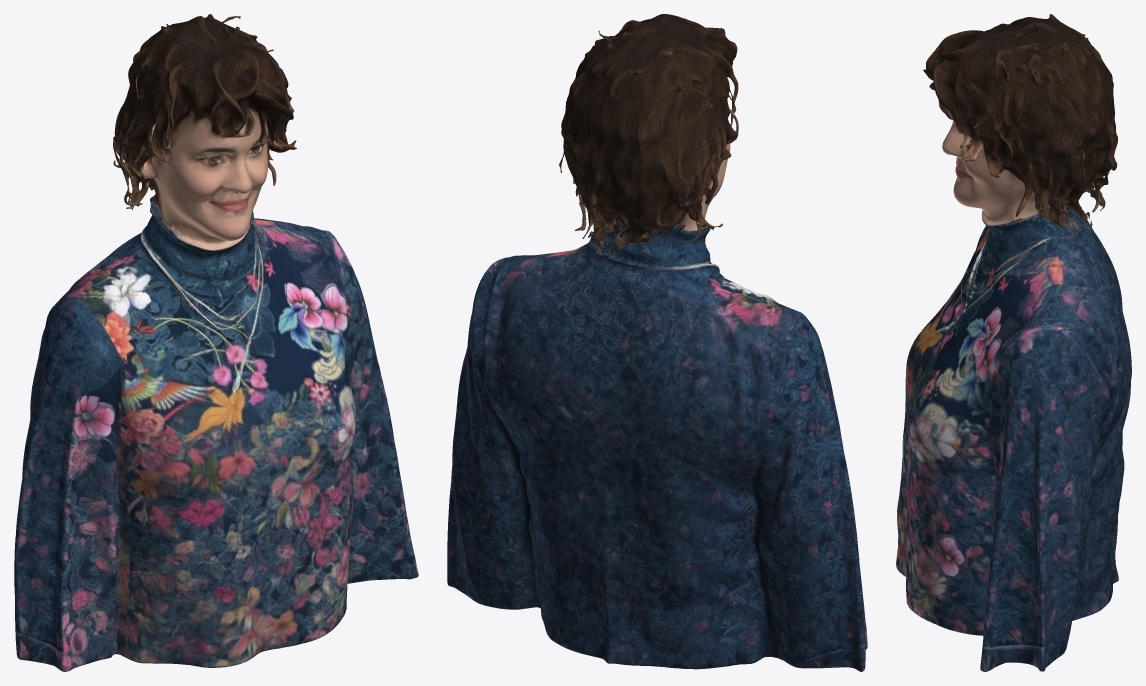
File: norah_jones_face(1).glb
The picture shows the model from 3 angles, left to right: view 1: azimuth 30°, elevation 25°; view 2: azimuth 150°, elevation 25°; view 3: azimuth 270°, elevation 25°; orthographic projection. The views are drawn at different scales.
Bounding box in the file's own units: 1.32 × 1.9 × 0.7225.
1 material, 1 textured.
